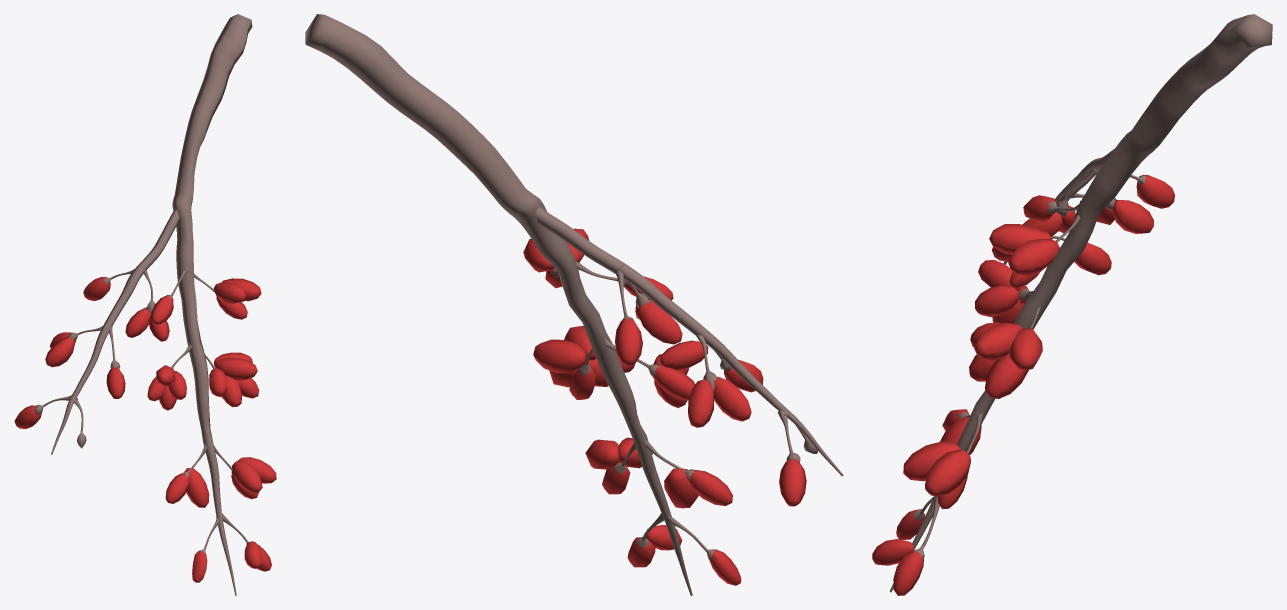
3 views of the same model, side by side, from view 1: azimuth 30°, elevation 25°; view 2: azimuth 150°, elevation 25°; view 3: azimuth 270°, elevation 25° (orthographic). The views are drawn at different scales.
Visible parts, largest first — view 1: UV_Sphere_2; view 2: UV_Sphere_2; view 3: UV_Sphere_2.
Boxes of the visible parts, left/top/right/bottom form: UV_Sphere_2: left=14, top=14, right=276, bottom=595; UV_Sphere_2: left=305, top=14, right=843, bottom=595; UV_Sphere_2: left=872, top=14, right=1272, bottom=595.
Size of the model in its own units: 0.1675 by 0.2554 by 0.1388.
1 material, 1 textured.
